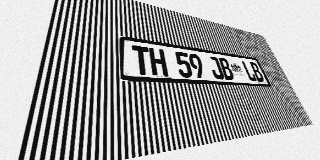5: (174, 51, 194, 78)
9: (187, 53, 206, 79)
B: (217, 57, 235, 80), (249, 62, 265, 82)
H: (149, 47, 168, 76)
J: (207, 56, 225, 80)
L: (241, 60, 258, 82)
T: (132, 45, 152, 75)
